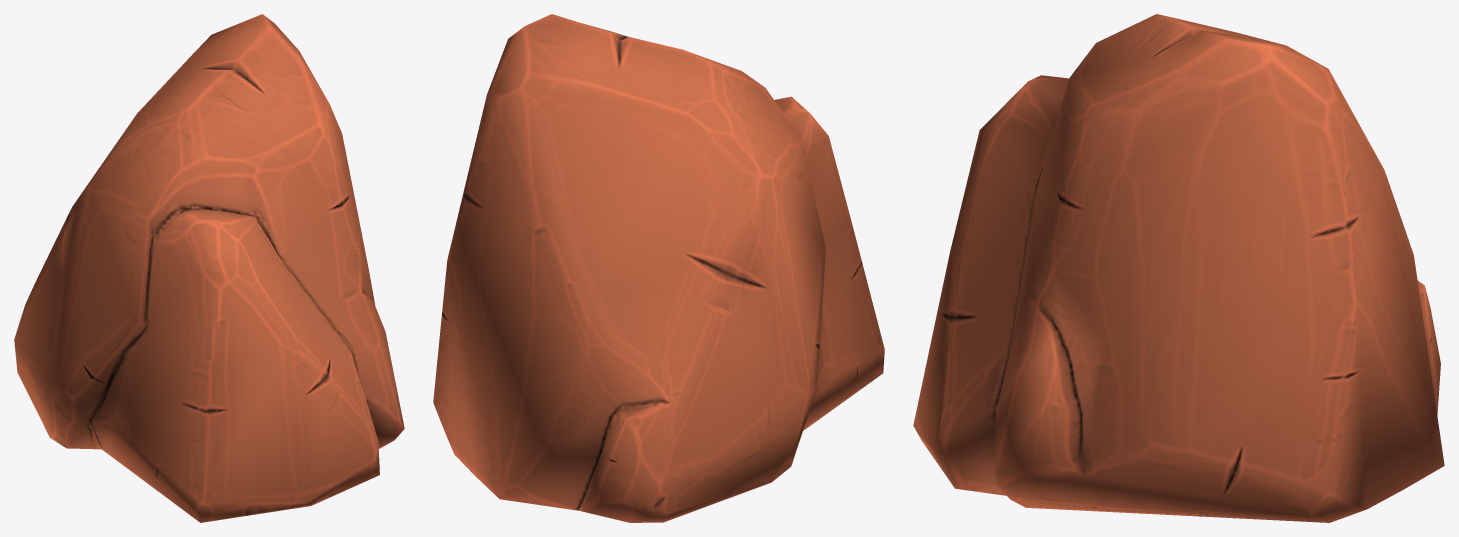
The model's file is sandstone_5.fbx.
The picture shows the model from 3 angles, left to right: view 1: azimuth 30°, elevation 25°; view 2: azimuth 150°, elevation 25°; view 3: azimuth 270°, elevation 25°; orthographic projection. The views are drawn at different scales.
Parts seen in each view (by area): view 1: Sandstone; view 2: Sandstone; view 3: Sandstone.
Boxes of the visible parts, bbox=[...] form: Sandstone: bbox=[14, 14, 404, 522]; Sandstone: bbox=[433, 14, 884, 522]; Sandstone: bbox=[913, 14, 1444, 522].
Size of the model in its own units: 323 by 380 by 404.
1 material, 1 textured.
